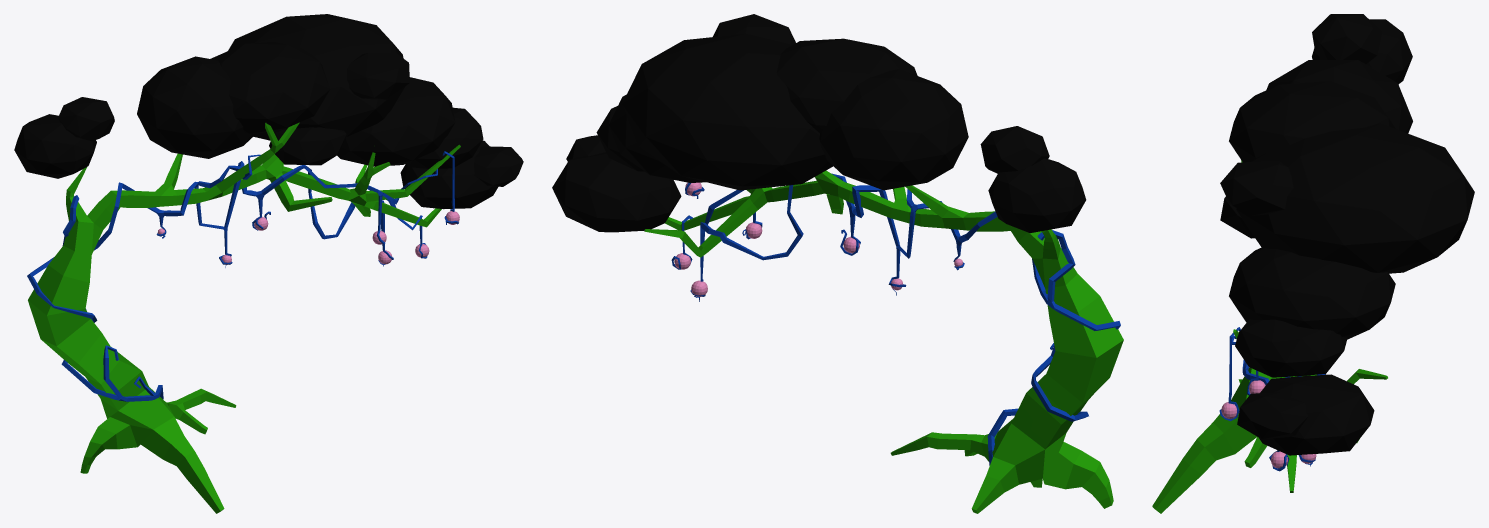
File: OrbTree_JR.fbx
3 renders of one model, left to right at view 1: azimuth 30°, elevation 25°; view 2: azimuth 150°, elevation 25°; view 3: azimuth 270°, elevation 25°, orthographic. The views are drawn at different scales.
Parts seen in each view (by area): view 1: OrbTree_JR; view 2: OrbTree_JR; view 3: OrbTree_JR.
Part boxes in pixels (left/top/right/bottom): OrbTree_JR: left=14, top=14, right=523, bottom=513; OrbTree_JR: left=552, top=14, right=1123, bottom=513; OrbTree_JR: left=1152, top=14, right=1474, bottom=513.
Bounding box in the file's own units: 383 × 302 × 182.
